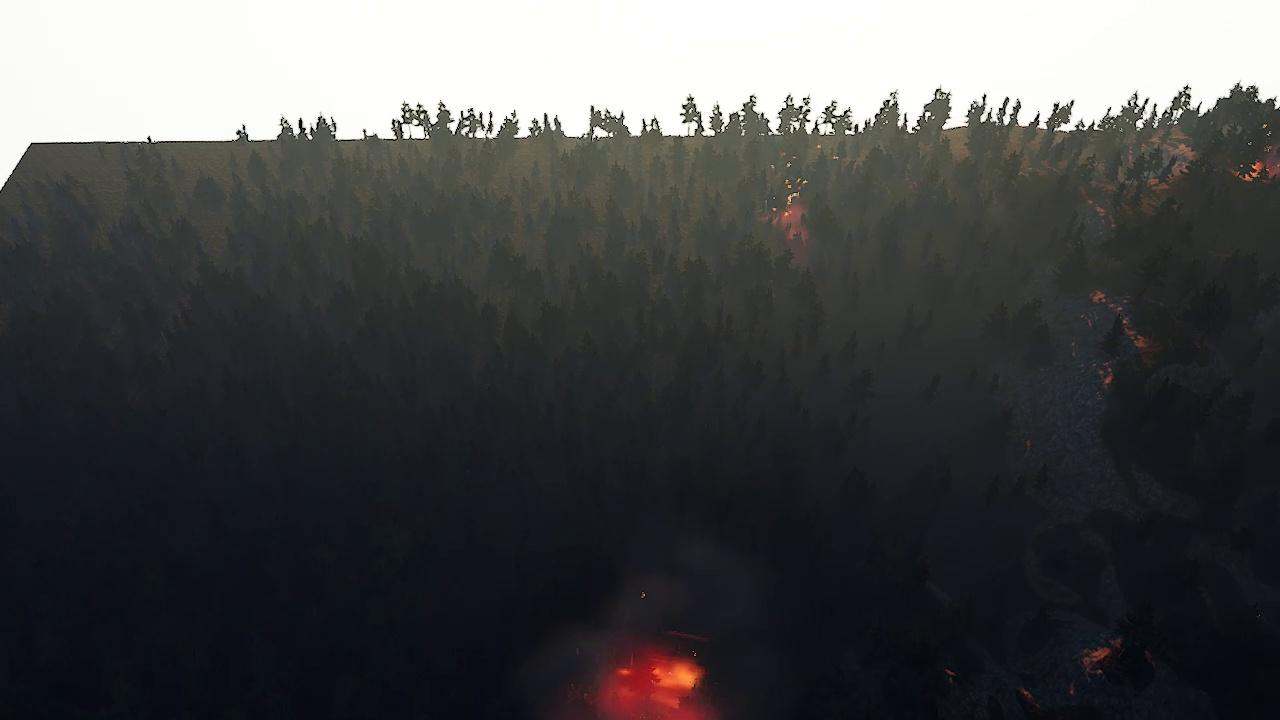fire: (584, 644, 719, 719), (769, 184, 818, 250)
smoke: (531, 530, 800, 720)
